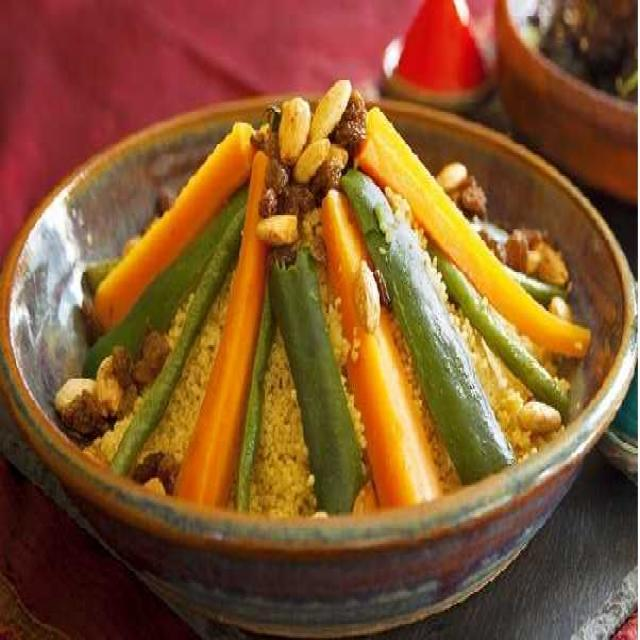Couscous: (3, 79, 640, 543)
